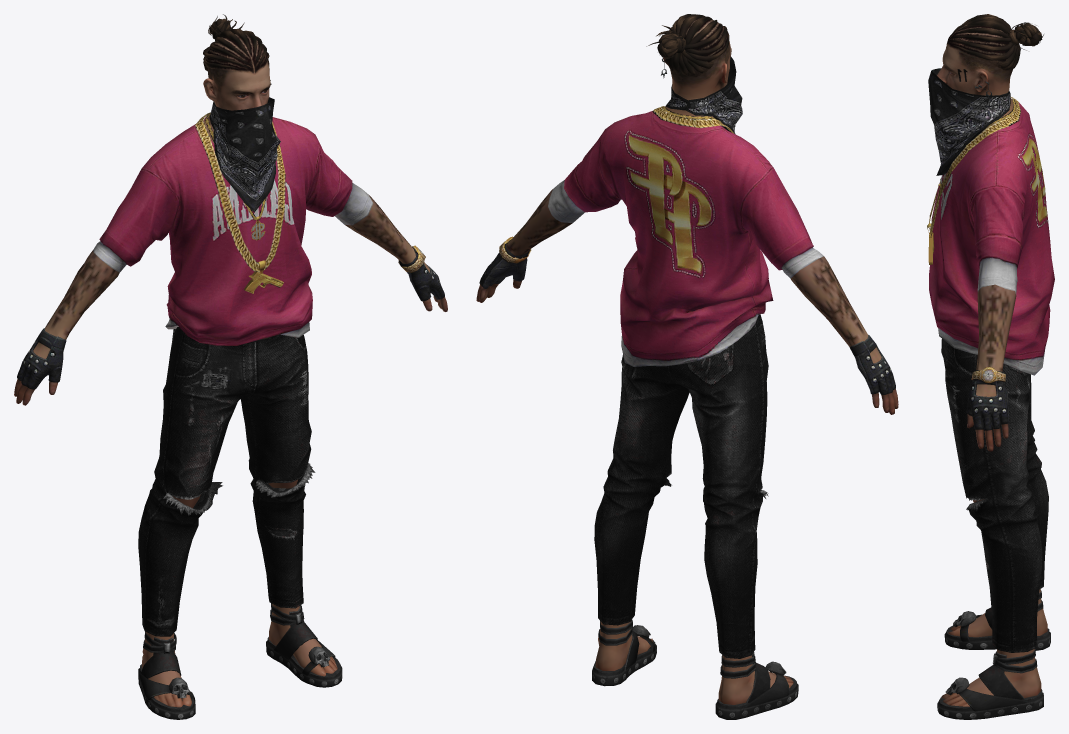
Rendered from free_fire_hip_hop_3d_model.glb.
3 views of the same model, side by side, from view 1: azimuth 30°, elevation 25°; view 2: azimuth 150°, elevation 25°; view 3: azimuth 270°, elevation 25° (orthographic).
Parts seen in each view (by area): view 1: Mesh_0006.rip, Mesh_0005.rip, Mesh_0003.rip, Mesh_0004.rip, Mesh_0002.rip; view 2: Mesh_0006.rip, Mesh_0005.rip, Mesh_0003.rip, Mesh_0004.rip, Mesh_0002.rip; view 3: Mesh_0006.rip, Mesh_0005.rip, Mesh_0003.rip, Mesh_0004.rip, Mesh_0002.rip.
Part boxes in pixels (bbox=[...]): Mesh_0006.rip: bbox=[17, 97, 444, 389]; Mesh_0005.rip: bbox=[138, 327, 315, 636]; Mesh_0003.rip: bbox=[14, 60, 447, 707]; Mesh_0004.rip: bbox=[138, 603, 342, 719]; Mesh_0002.rip: bbox=[203, 14, 269, 74]; Mesh_0006.rip: bbox=[479, 56, 895, 394]; Mesh_0005.rip: bbox=[594, 314, 768, 658]; Mesh_0003.rip: bbox=[476, 41, 898, 704]; Mesh_0004.rip: bbox=[592, 619, 798, 719]; Mesh_0002.rip: bbox=[646, 14, 729, 76]; Mesh_0006.rip: bbox=[927, 68, 1054, 430]; Mesh_0005.rip: bbox=[941, 339, 1048, 652]; Mesh_0003.rip: bbox=[937, 45, 1047, 706]; Mesh_0004.rip: bbox=[937, 590, 1050, 719]; Mesh_0002.rip: bbox=[946, 14, 1043, 70].
Bounding box in the file's own units: 6.86 × 10.27 × 1.81.
5 materials, 5 textured.
